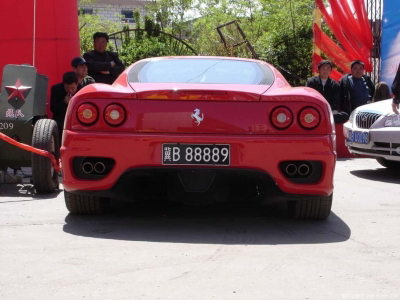plate_number: (161, 143, 230, 166)
